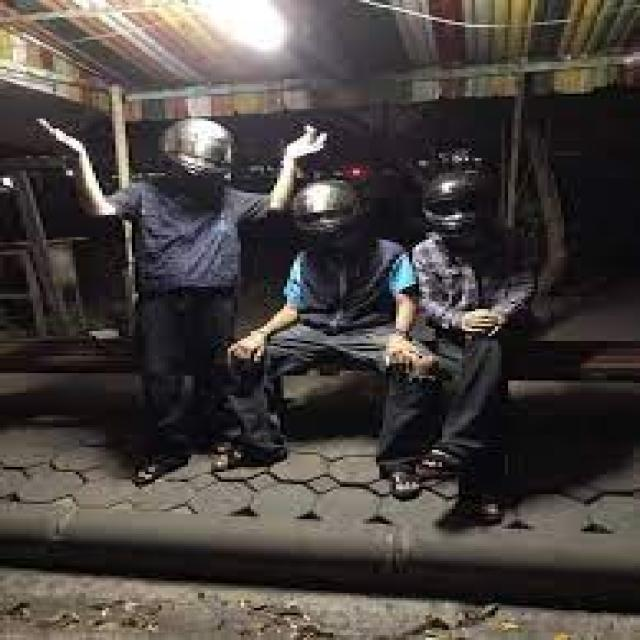helmet: (150, 108, 238, 199), (418, 162, 510, 249), (291, 176, 376, 250)
